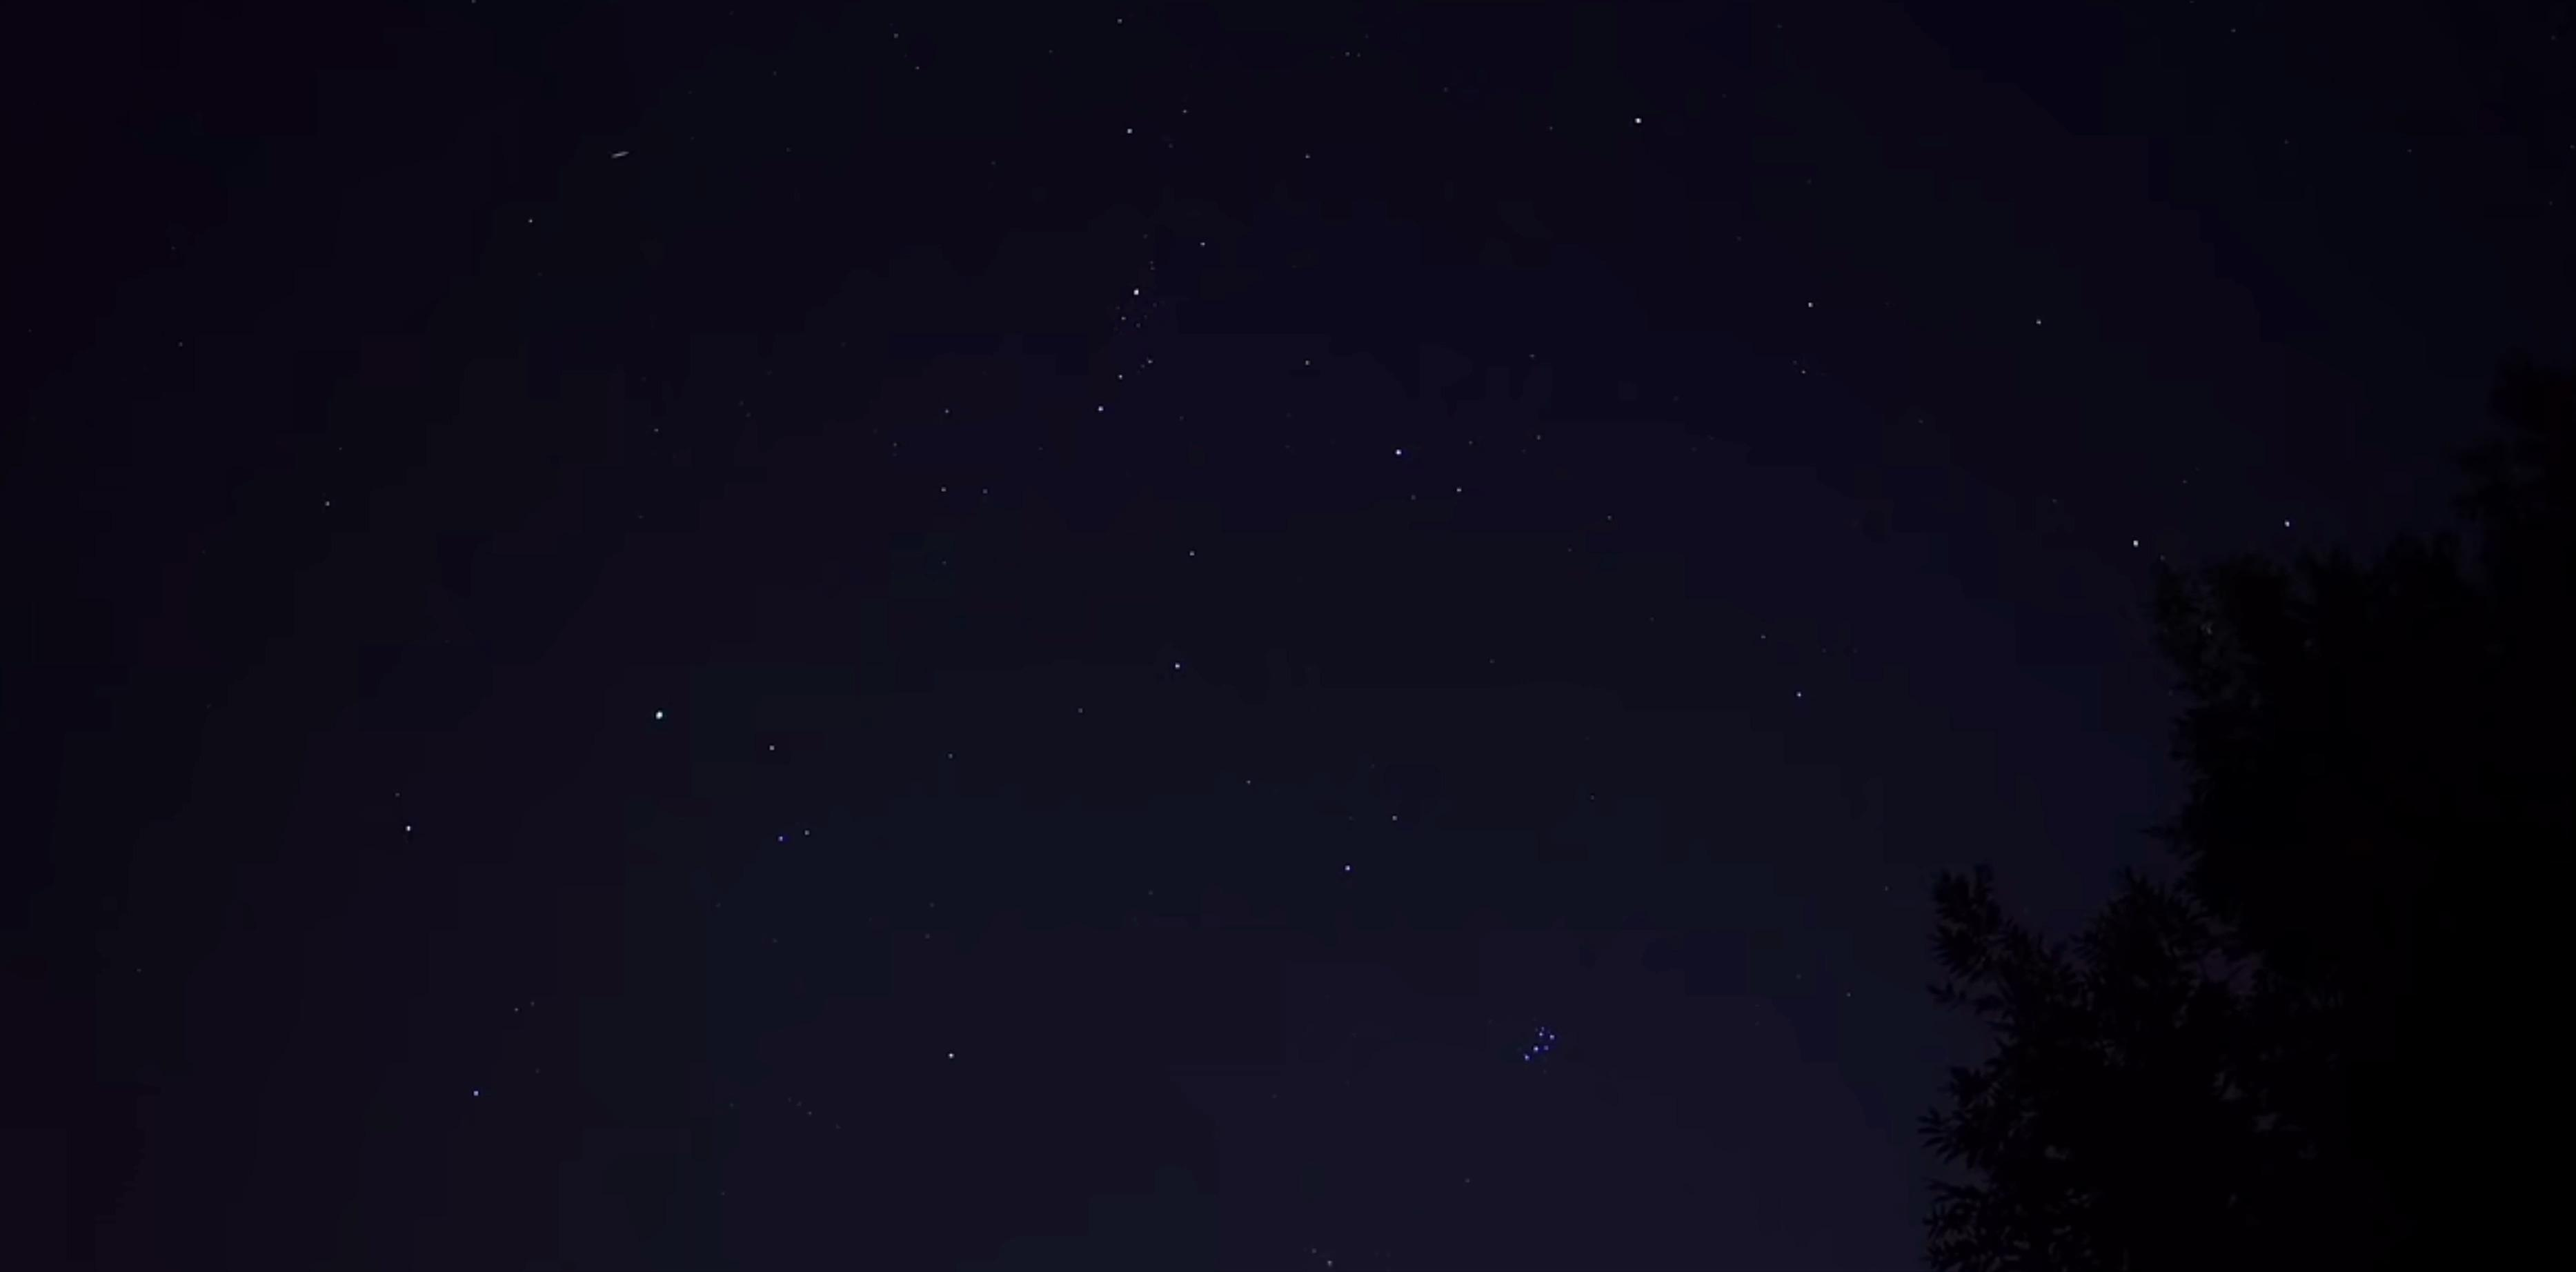meteorite: (606, 140, 634, 171)
